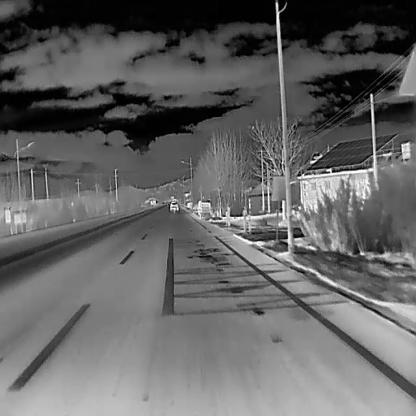car: (169, 200, 179, 210)
